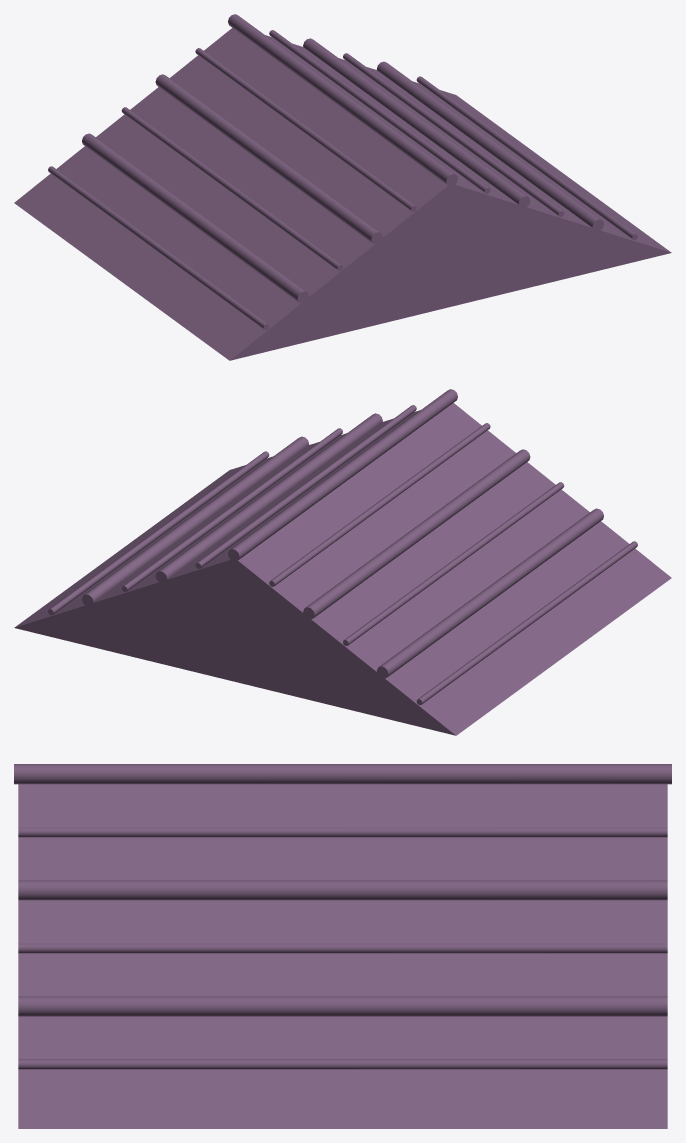
Rendered from roof_traditional_gardens_0.glb.
The picture shows the model from 3 angles, top to bottom: view 1: azimuth 30°, elevation 25°; view 2: azimuth 150°, elevation 25°; view 3: azimuth 270°, elevation 25°; orthographic projection. The views are drawn at different scales.
Visible parts, largest first — view 1: roof_traditional_gardens_0 plum; view 2: roof_traditional_gardens_0 plum; view 3: roof_traditional_gardens_0 plum.
Part boxes in pixels (x1,y1,x2,y2): roof_traditional_gardens_0 plum: [14, 14, 671, 360]; roof_traditional_gardens_0 plum: [14, 389, 671, 735]; roof_traditional_gardens_0 plum: [14, 764, 671, 1128].
Bounding box in the file's own units: 0.9 × 0.2594 × 0.77.
